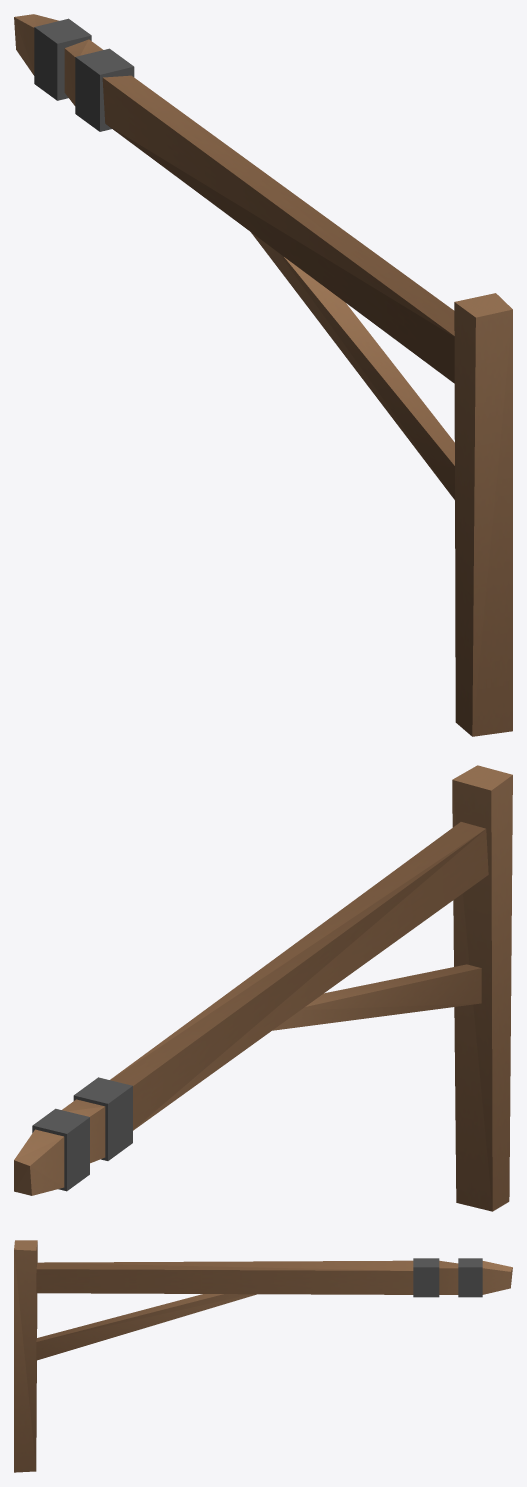
Rendered from ZLP_Build_D_44.FBX.
3 renders of one model, top to bottom at view 1: azimuth 30°, elevation 25°; view 2: azimuth 150°, elevation 25°; view 3: azimuth 270°, elevation 25°, orthographic. The views are drawn at different scales.
Parts seen in each view (by area): view 1: ZLP_Build_D_44; view 2: ZLP_Build_D_44; view 3: ZLP_Build_D_44.
Part boxes in pixels (box(x1,y1,x2,y2)): ZLP_Build_D_44: box(14, 14, 512, 736); ZLP_Build_D_44: box(14, 765, 512, 1211); ZLP_Build_D_44: box(14, 1240, 512, 1472).
Bounding box in the file's own units: 17.83 × 178 × 362.
